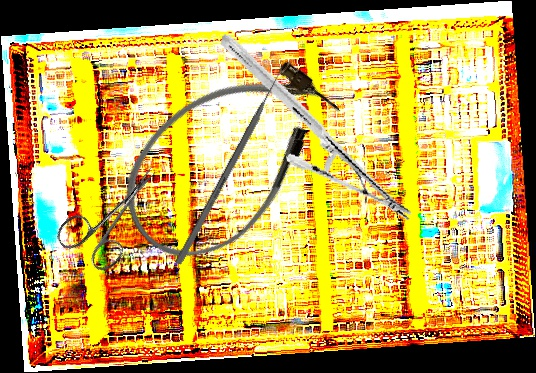Cannula: (95, 29, 362, 287)
Iris Scissors: (51, 146, 179, 280)
Needle Holder: (188, 33, 444, 222)
Pusher: (174, 60, 290, 266)
